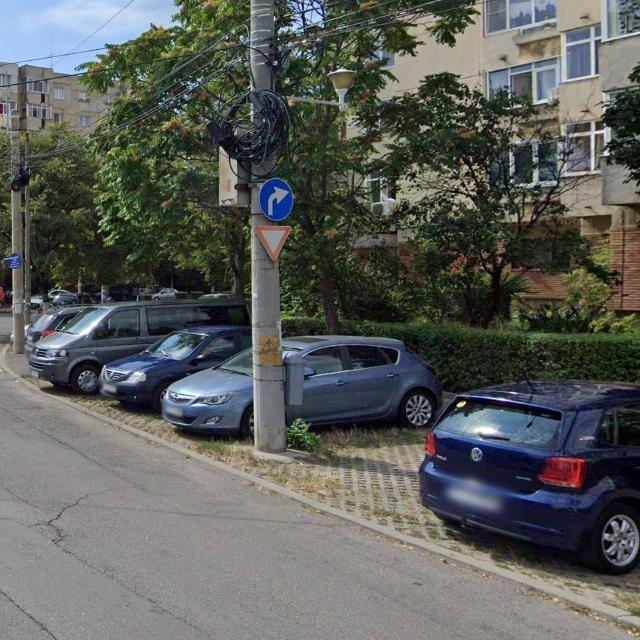prio_give_way: (254, 223, 296, 264)
